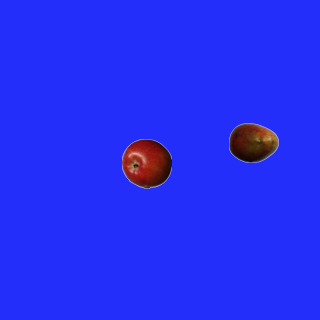Apple Braeburn: (121, 138, 171, 188)
Mango Red: (228, 117, 278, 167)
